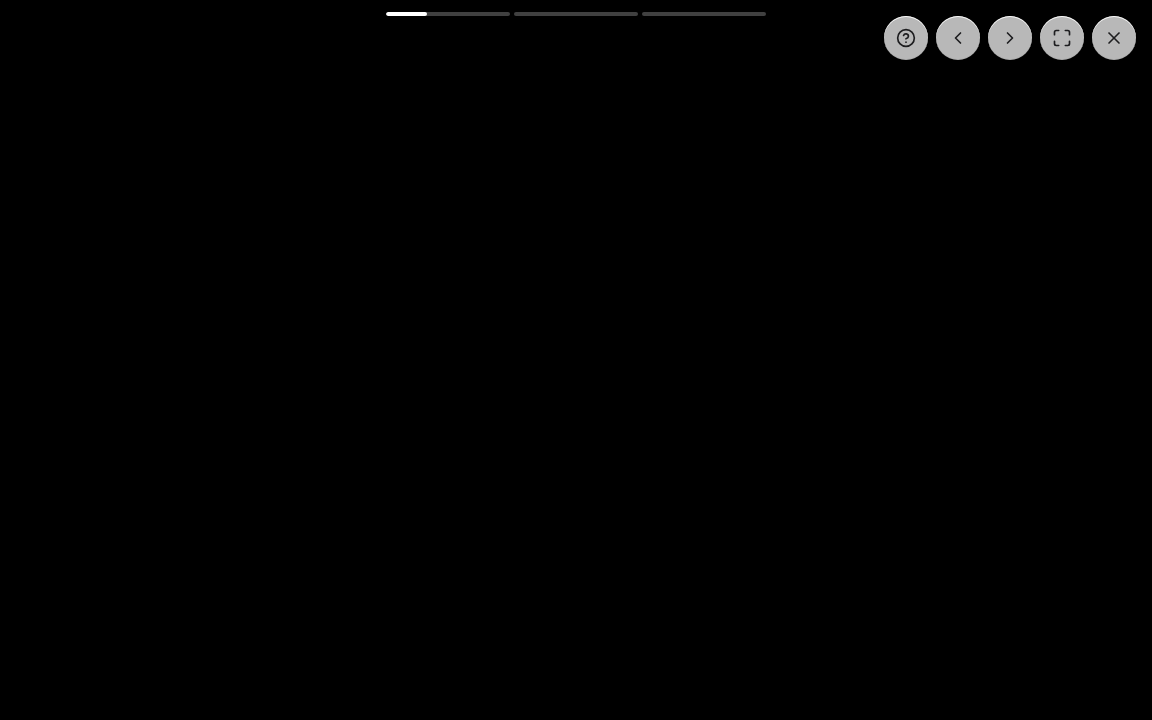
Scenario: AwardsPresent › the ? button and the ? key show the shortcuts
Click the button named "Keyboard shortcuts".
click(906, 38)  # box [884,16,928,60]
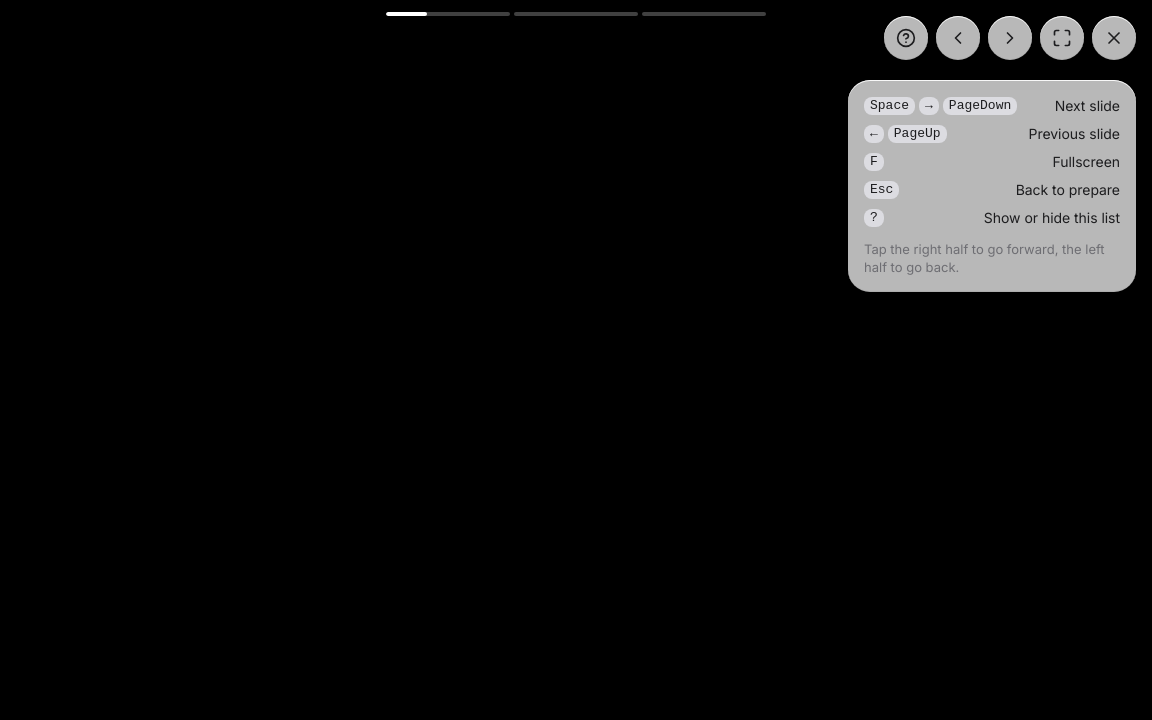
Expected: the text "Back to prepare" is shown, [1016,180,1120,200]
Press ?
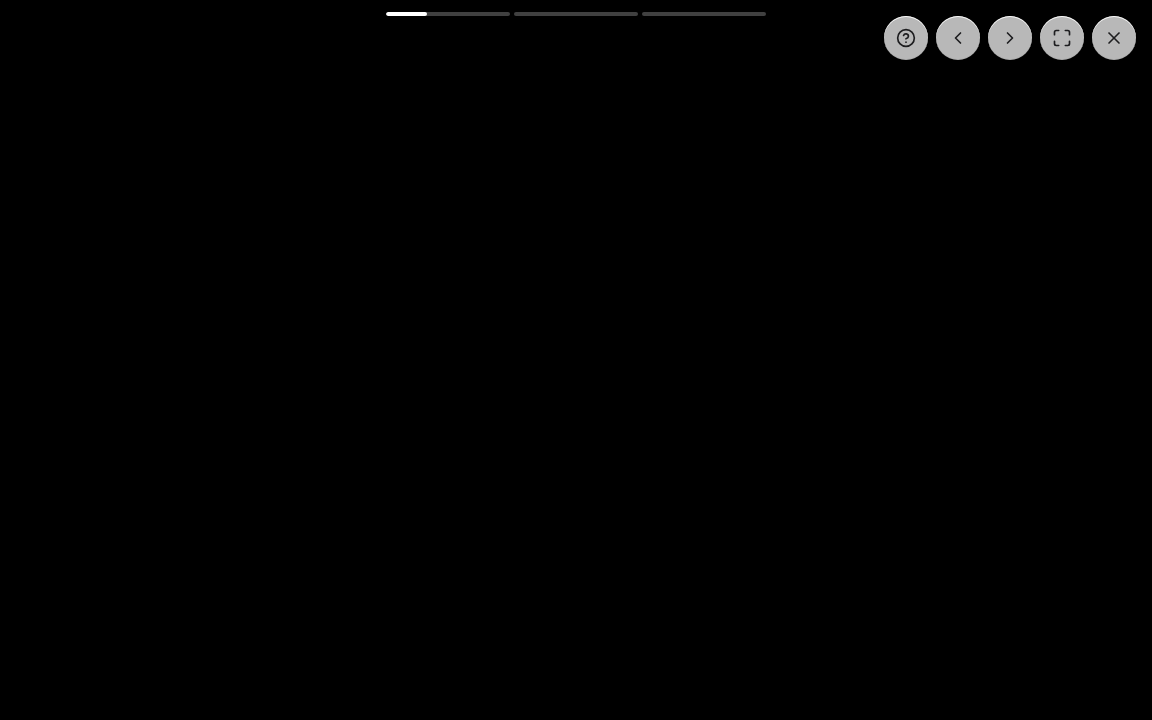
Press ?
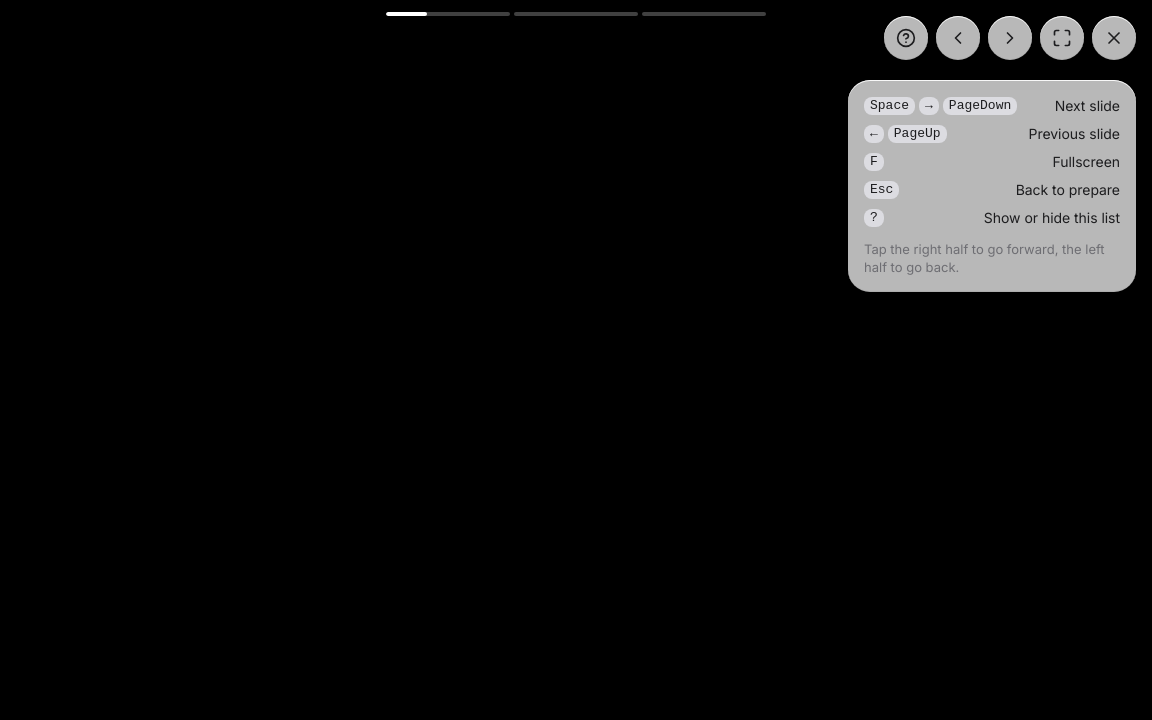
Expected: the element named "Keyboard shortcuts" is shown, [848,80,1136,292]
